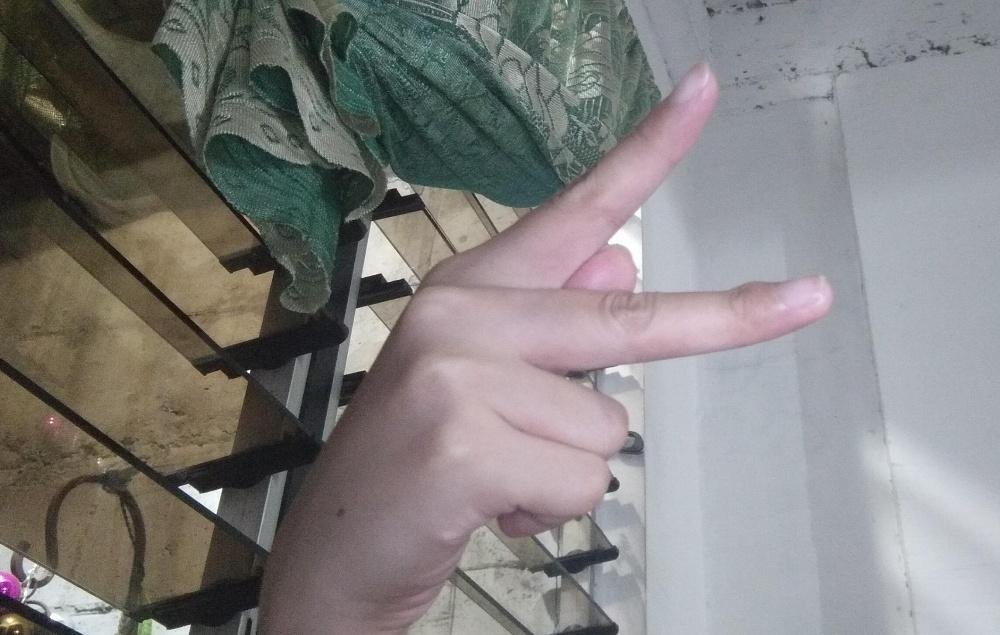k: (286, 57, 832, 617)
